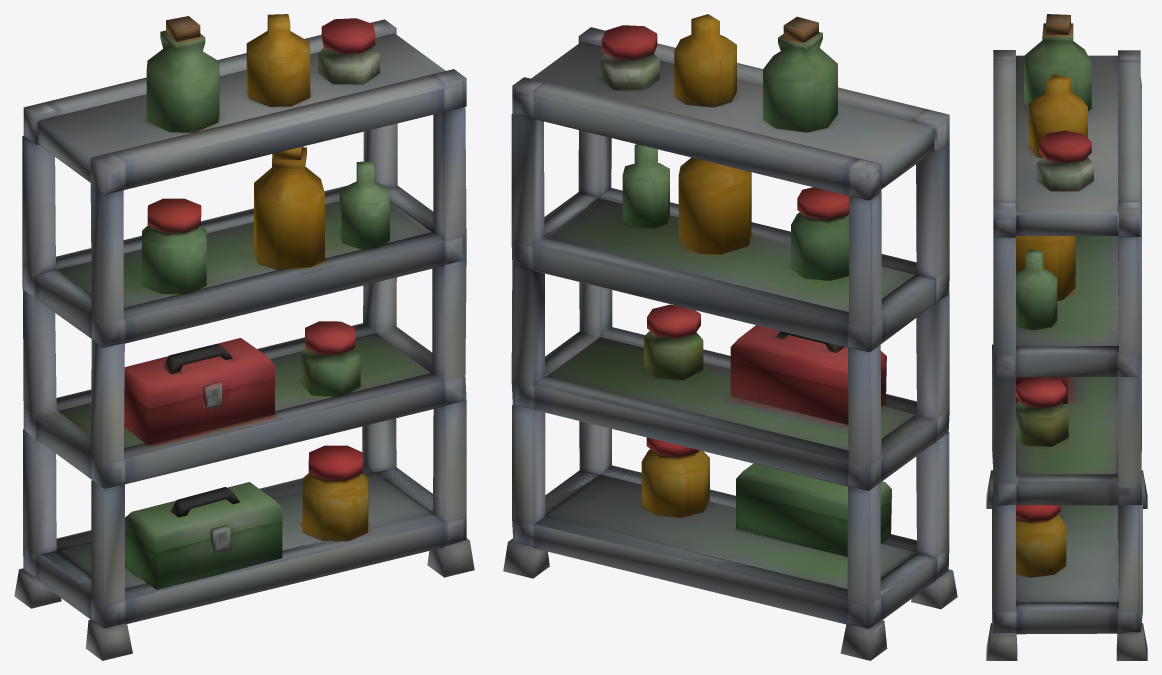
File: tripo_convert_798c6930-5cd3-4128-81b0-a80e6e89b3cf.glb
The picture shows the model from 3 angles, left to right: view 1: azimuth 30°, elevation 25°; view 2: azimuth 150°, elevation 25°; view 3: azimuth 270°, elevation 25°; orthographic projection. The views are drawn at different scales.
Parts seen in each view (by area): view 1: tripo_node_798c6930-5cd3-4128-81b0-a80e6e89b3cf; view 2: tripo_node_798c6930-5cd3-4128-81b0-a80e6e89b3cf; view 3: tripo_node_798c6930-5cd3-4128-81b0-a80e6e89b3cf.
Part boxes in pixels (x1,y1,x2,y2): tripo_node_798c6930-5cd3-4128-81b0-a80e6e89b3cf: (14,14,474,660); tripo_node_798c6930-5cd3-4128-81b0-a80e6e89b3cf: (503,14,957,660); tripo_node_798c6930-5cd3-4128-81b0-a80e6e89b3cf: (986,14,1147,660).
Bounding box in the file's own units: 0.6699 × 0.998 × 0.2754.
1 material, 1 textured.
